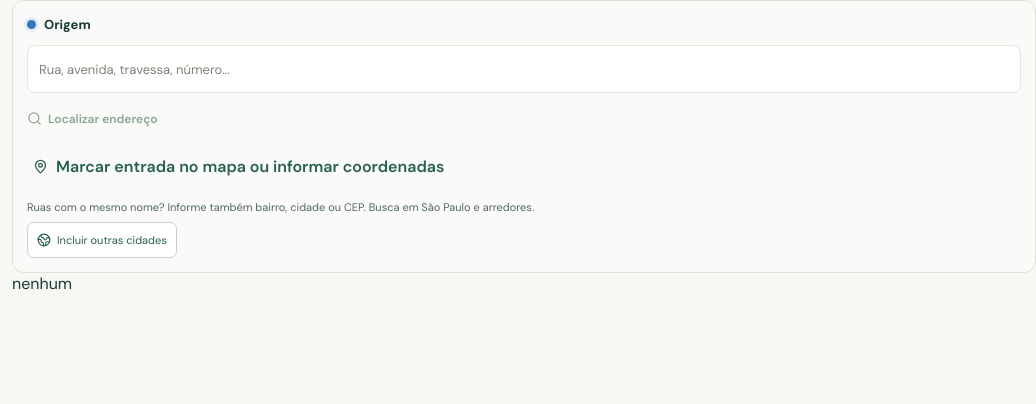
Test case: cancela a busca e separa o cache ao mudar a região
Type "Rua dos Campos" into the dropdown. click: (524, 68)
box: x1=28 y1=46 x2=1020 y2=92
Wait 600 ms
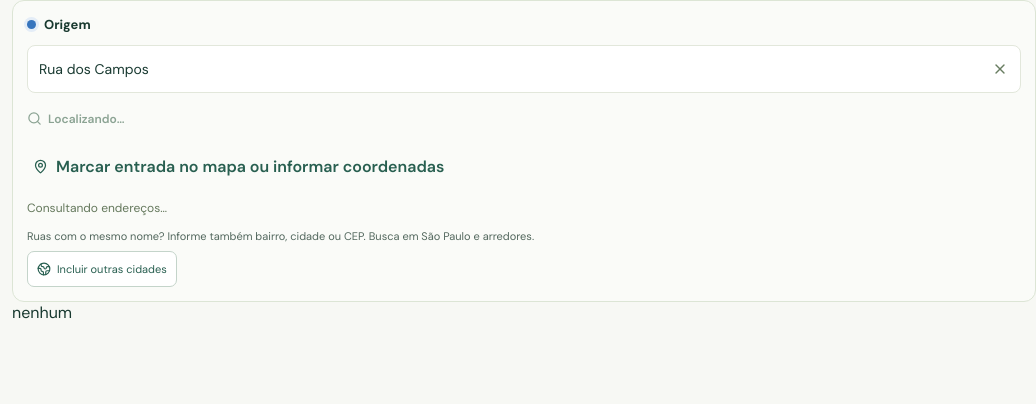
Click the button "Incluir outras cidades". click: (102, 269)
box: x1=27 y1=251 x2=177 y2=287
Wait 600 ms
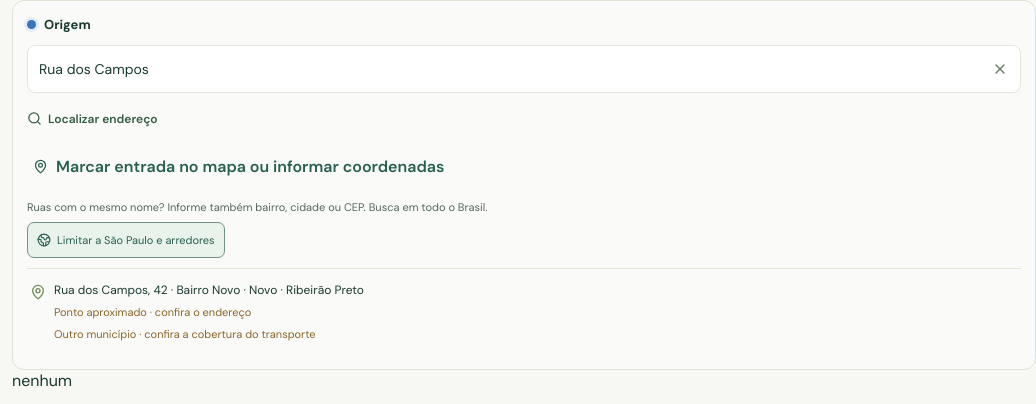
Check: the option "Novo" is shown, box x1=27 y1=269 x2=1021 y2=355
